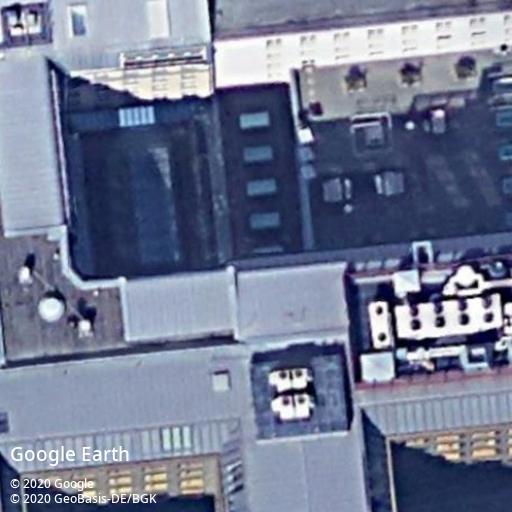Chiller: (393, 290, 505, 343), (367, 299, 395, 352), (277, 392, 295, 413), (293, 391, 311, 412), (274, 367, 291, 387), (291, 366, 308, 384)
